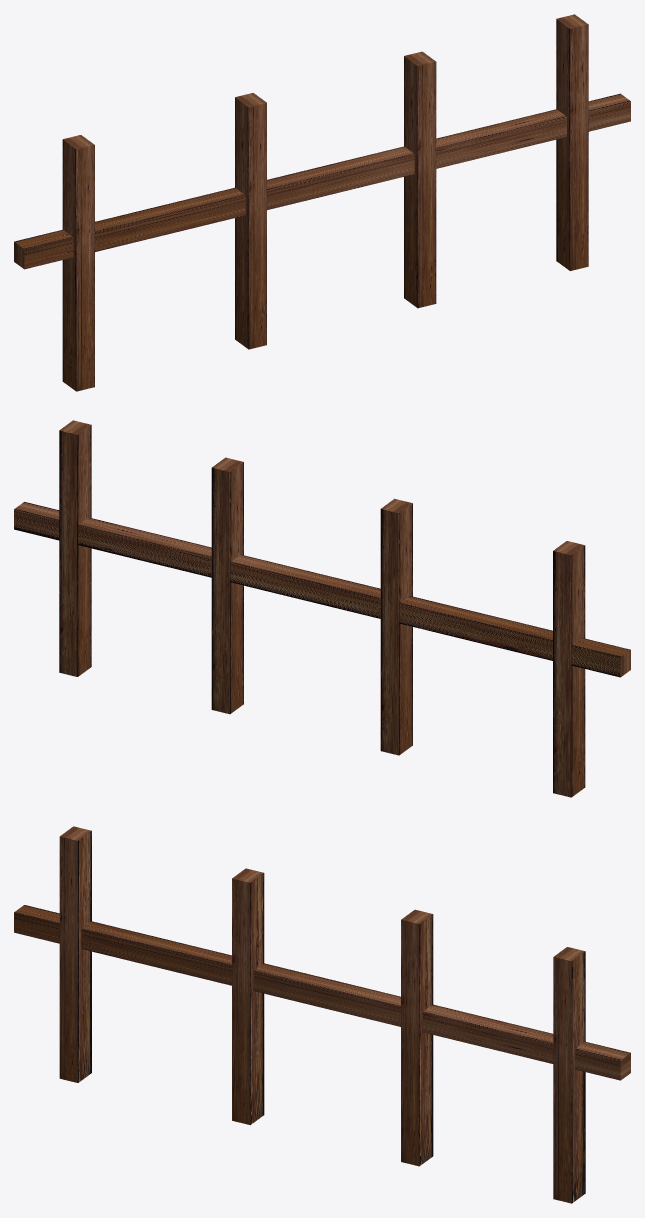
Rendered from WoodFences.FBX.
3 renders of one model, top to bottom at view 1: azimuth 30°, elevation 25°; view 2: azimuth 150°, elevation 25°; view 3: azimuth 330°, elevation 25°, orthographic.
Parts seen in each view (by area): view 1: Object001; view 2: Object001; view 3: Object001.
Part boxes in pixels (bbox=[...]): Object001: bbox=[14, 14, 630, 391]; Object001: bbox=[14, 420, 630, 797]; Object001: bbox=[14, 826, 630, 1203].
Bounding box in the file's own units: 54.62 × 20.85 × 2.16.
